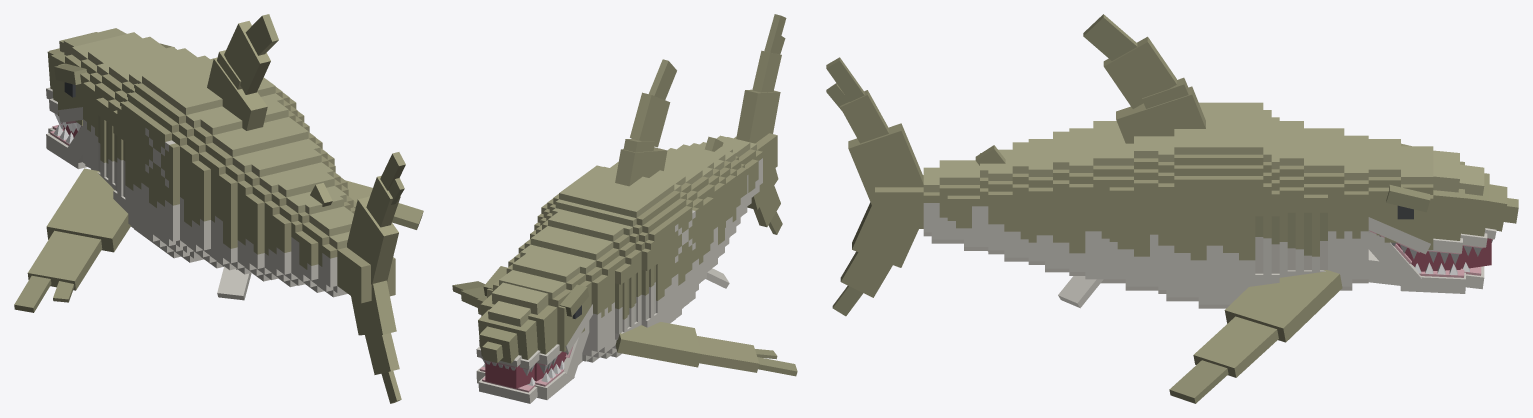
Rendered from GinsuShark.glb.
The picture shows the model from 3 angles, left to right: view 1: azimuth 30°, elevation 25°; view 2: azimuth 150°, elevation 25°; view 3: azimuth 270°, elevation 25°; orthographic projection. The views are drawn at different scales.
Visible parts, largest first — view 1: S1, S2, Tail, S3, Head, S4, S5, S6, Jaw; view 2: S1, Head, S2, Tail, S3, Jaw, S4, S5, S6; view 3: S1, S2, Head, Tail, S3, S4, S5, Jaw, S6.
Boxes of the visible parts, x1,y1,x2,y2 form: S1: (14,54,423,312); S2: (145,14,309,268); Tail: (337,152,405,403); S3: (200,122,334,300); Head: (46,28,192,170); S4: (241,152,348,283); S5: (272,183,356,292); S6: (303,212,353,297); Jaw: (46,123,89,169); S1: (452,178,797,376); Head: (476,233,614,388); S2: (580,59,710,323); Tail: (734,14,786,234); S3: (664,154,729,288); Jaw: (476,321,589,403); S4: (667,144,736,246); S5: (690,136,751,225); S6: (716,135,762,197); S1: (1169,102,1342,403); S2: (1083,14,1214,308); Head: (1328,128,1518,290); Tail: (826,57,923,316); S3: (1058,121,1117,308); S4: (1012,131,1060,272); S5: (964,145,1012,261); Jaw: (1368,230,1484,293); S6: (923,160,963,243).
Size of the model in its own units: 29.31 by 20.43 by 42.79.
